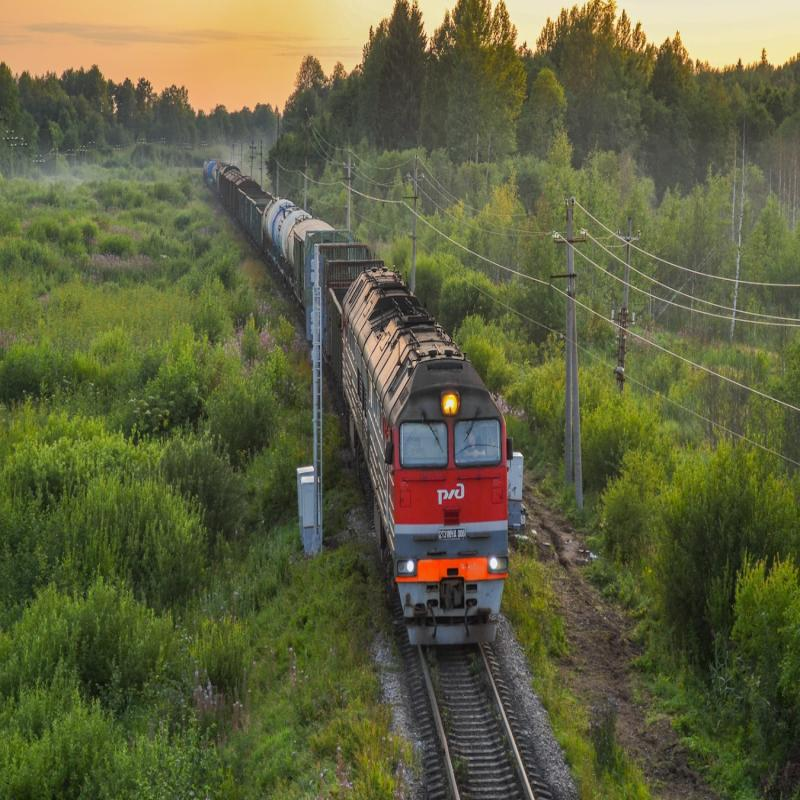train: (335, 242, 528, 667), (261, 184, 392, 373)
